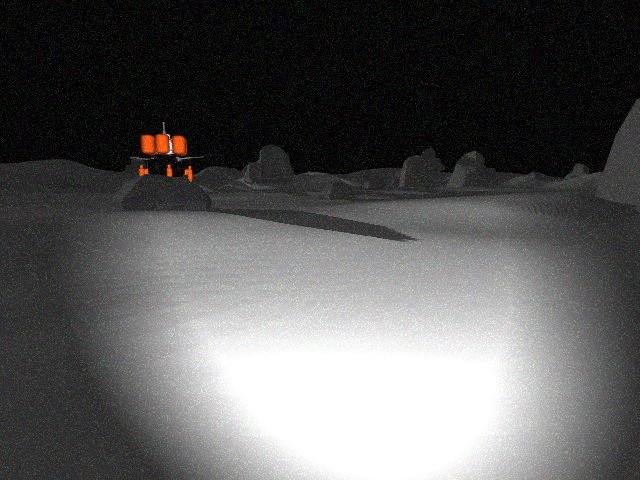homebase: (120, 113, 207, 197)
